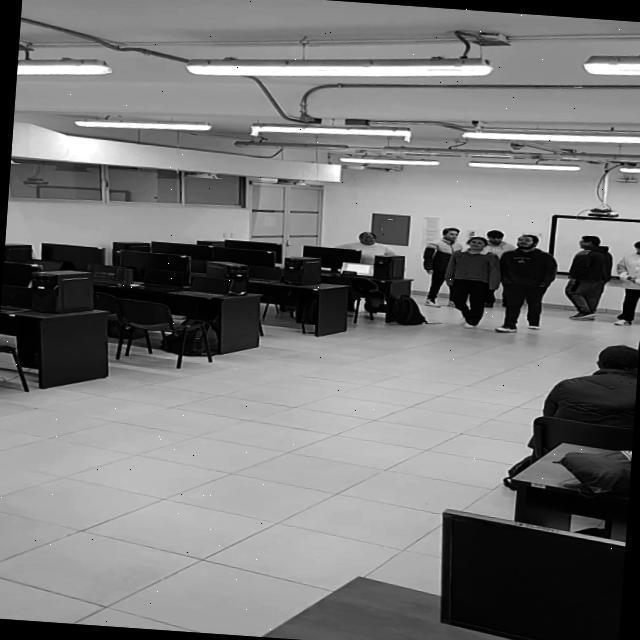Persona: (494, 227, 562, 337), (438, 234, 501, 332), (562, 232, 615, 324), (416, 223, 458, 307), (613, 236, 640, 327)
